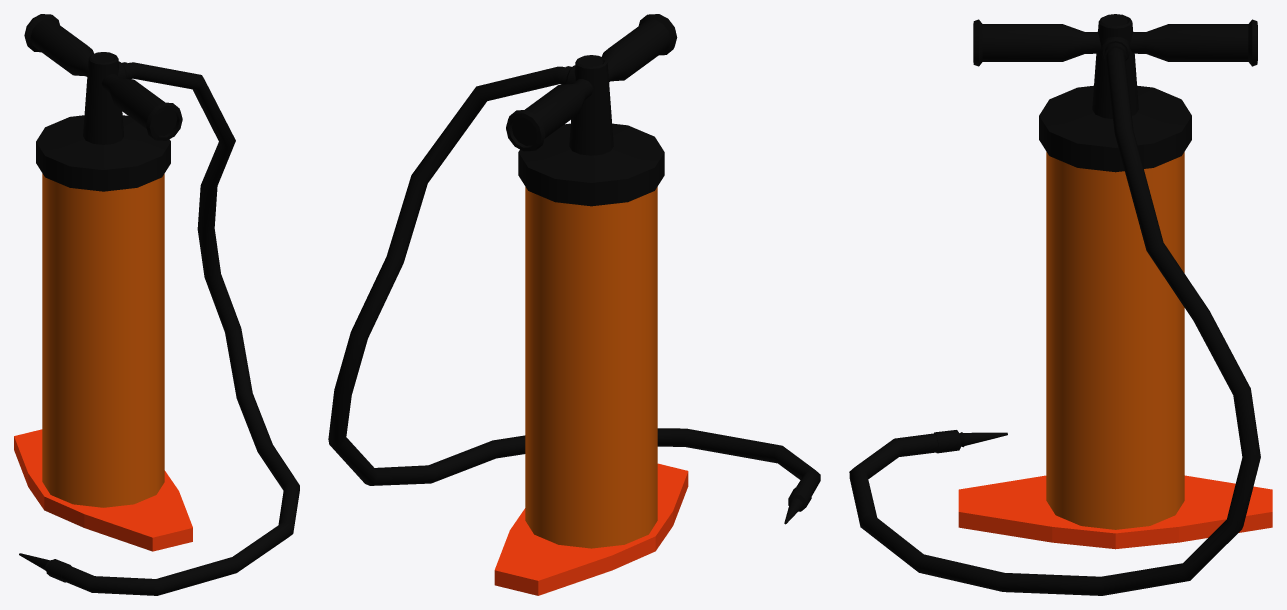
File: AirPump2.fbx
3 views of the same model, side by side, from view 1: azimuth 30°, elevation 25°; view 2: azimuth 150°, elevation 25°; view 3: azimuth 270°, elevation 25° (orthographic). The views are drawn at different scales.
Parts seen in each view (by area): view 1: SM_AirPump_LOD0; view 2: SM_AirPump_LOD0; view 3: SM_AirPump_LOD0.
Boxes of the visible parts, x1=… form: SM_AirPump_LOD0: x1=14, y1=14, x2=299, y2=595; SM_AirPump_LOD0: x1=328, y1=14, x2=820, y2=595; SM_AirPump_LOD0: x1=849, y1=14, x2=1272, y2=595.
Size of the model in its own units: 20.05 by 26.22 by 20.17.
